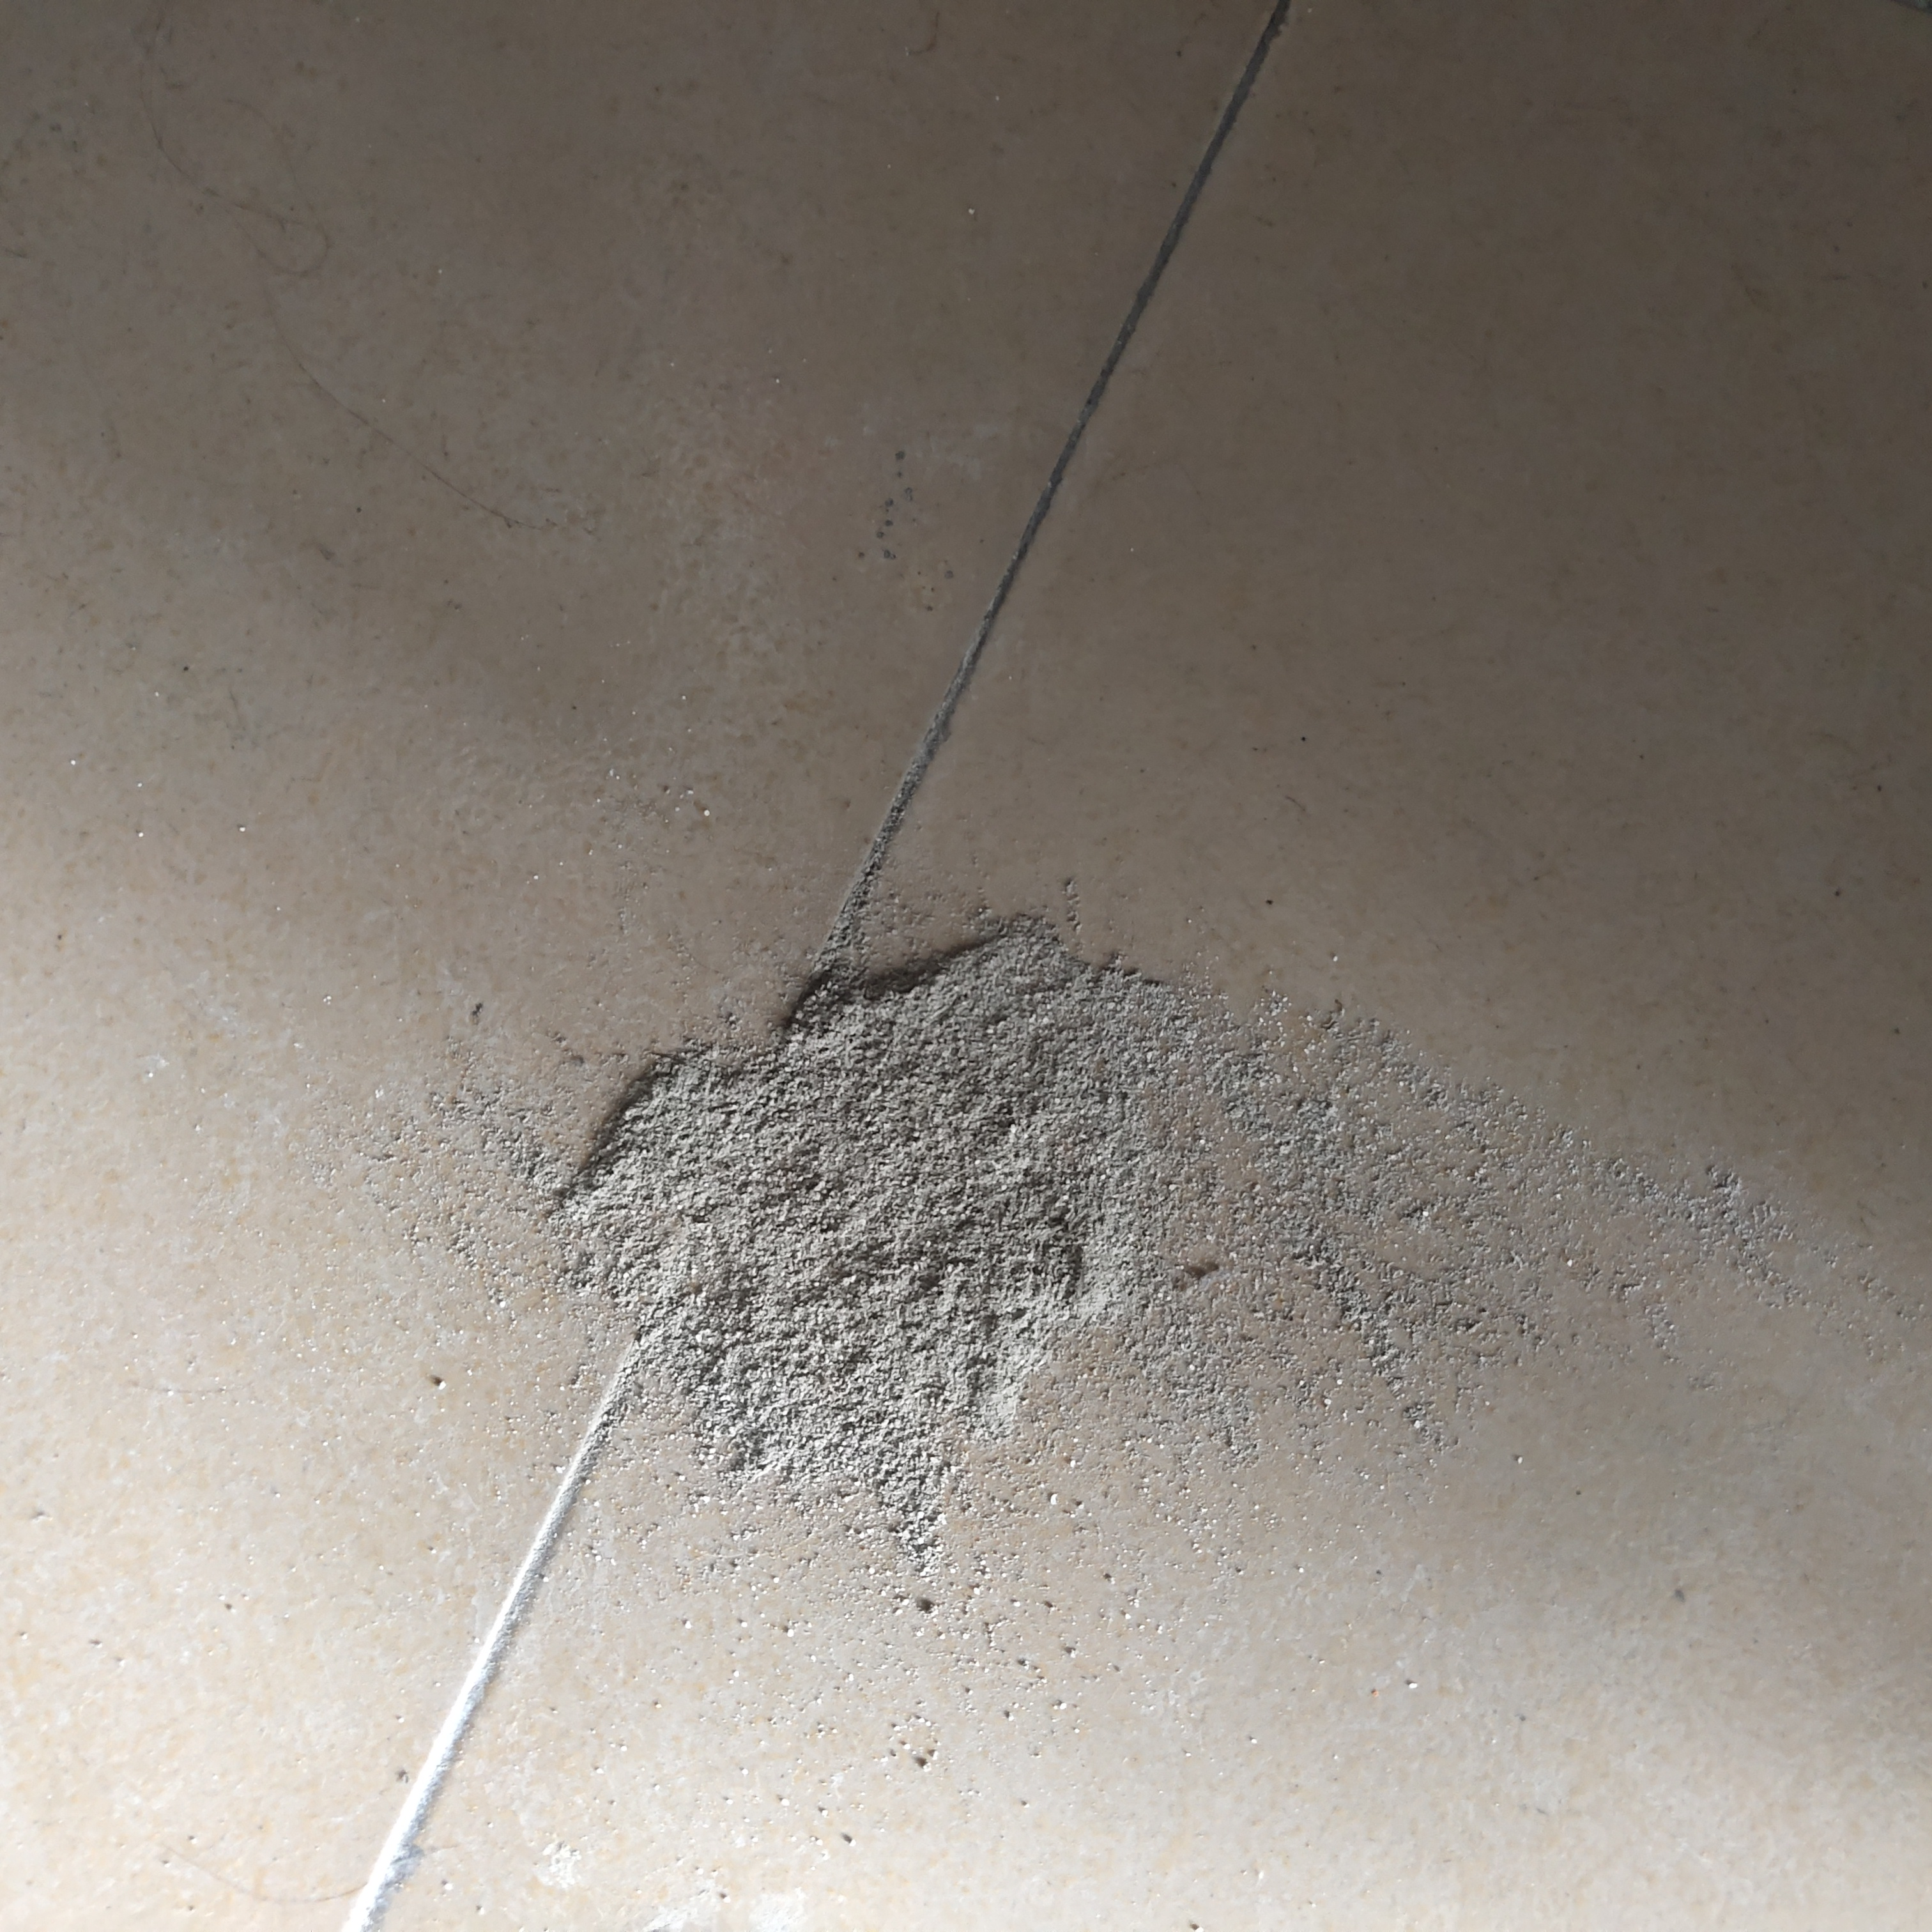ash pile: (361, 911, 1835, 1677)
